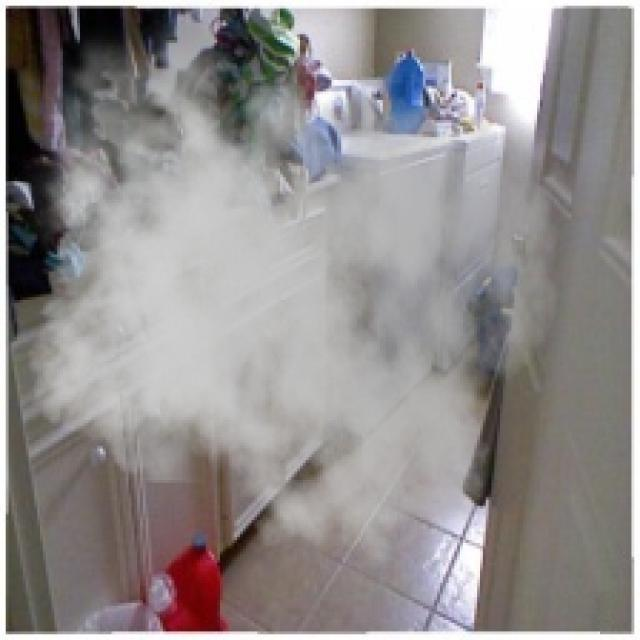smoke: (11, 0, 560, 569)
